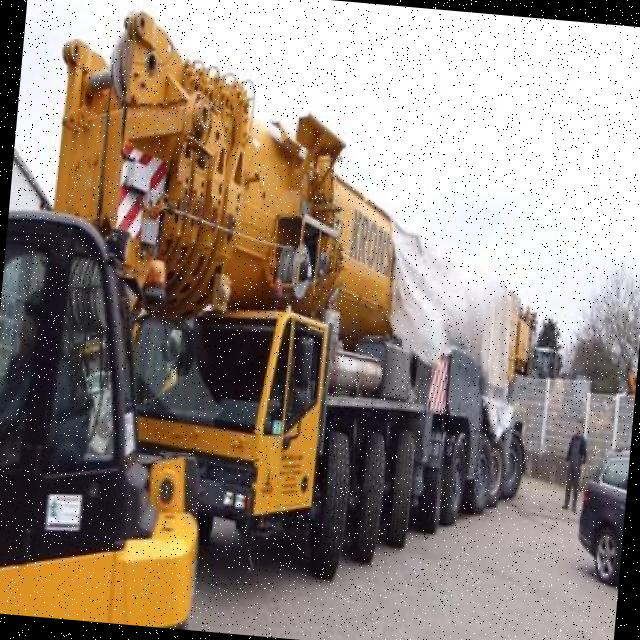Mobile Crane: (20, 7, 563, 590)
